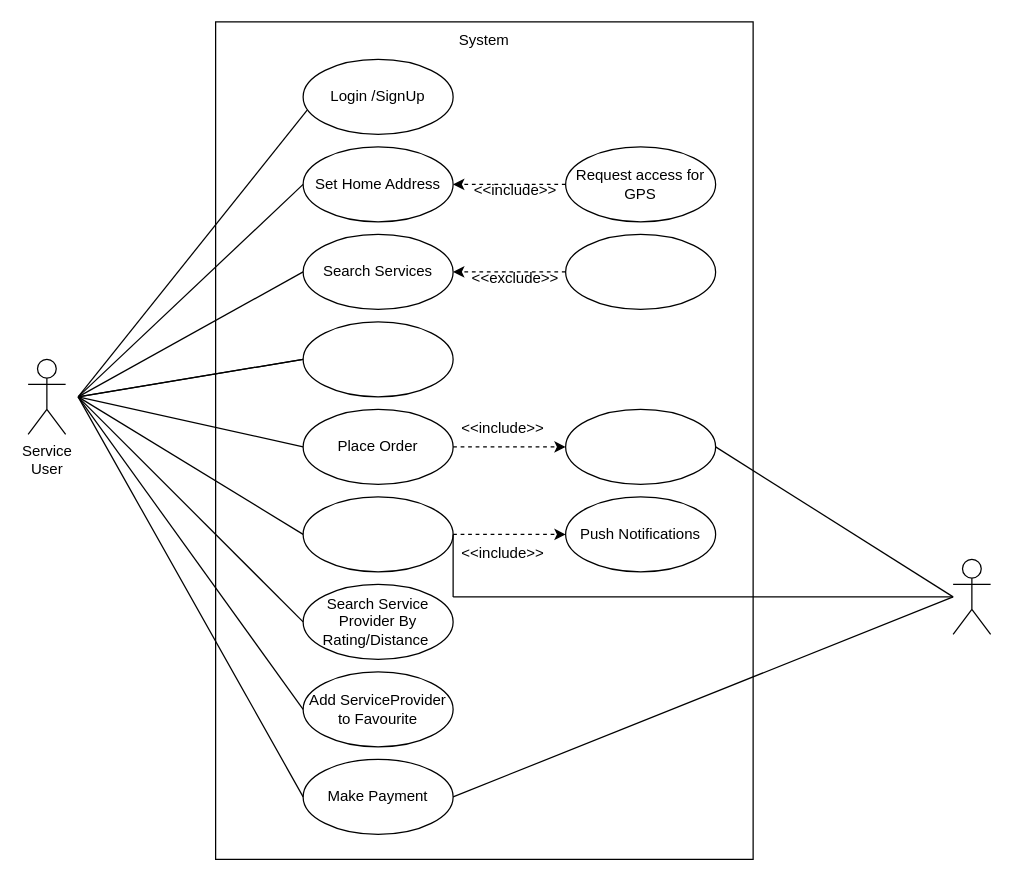
The diagram is 1021 pixels wide and 881 high, and some of its shapes have lost their labels. Here are the shapes that lost their labels. From the top down, the centre of each, then its label:
the point at 640,271: Return result not found error
the point at 377,359: Rate/Review Service Provider
the point at 640,446: Accept/Reject Order
the point at 377,534: Track Order
the point at 971,596: Service Provider
